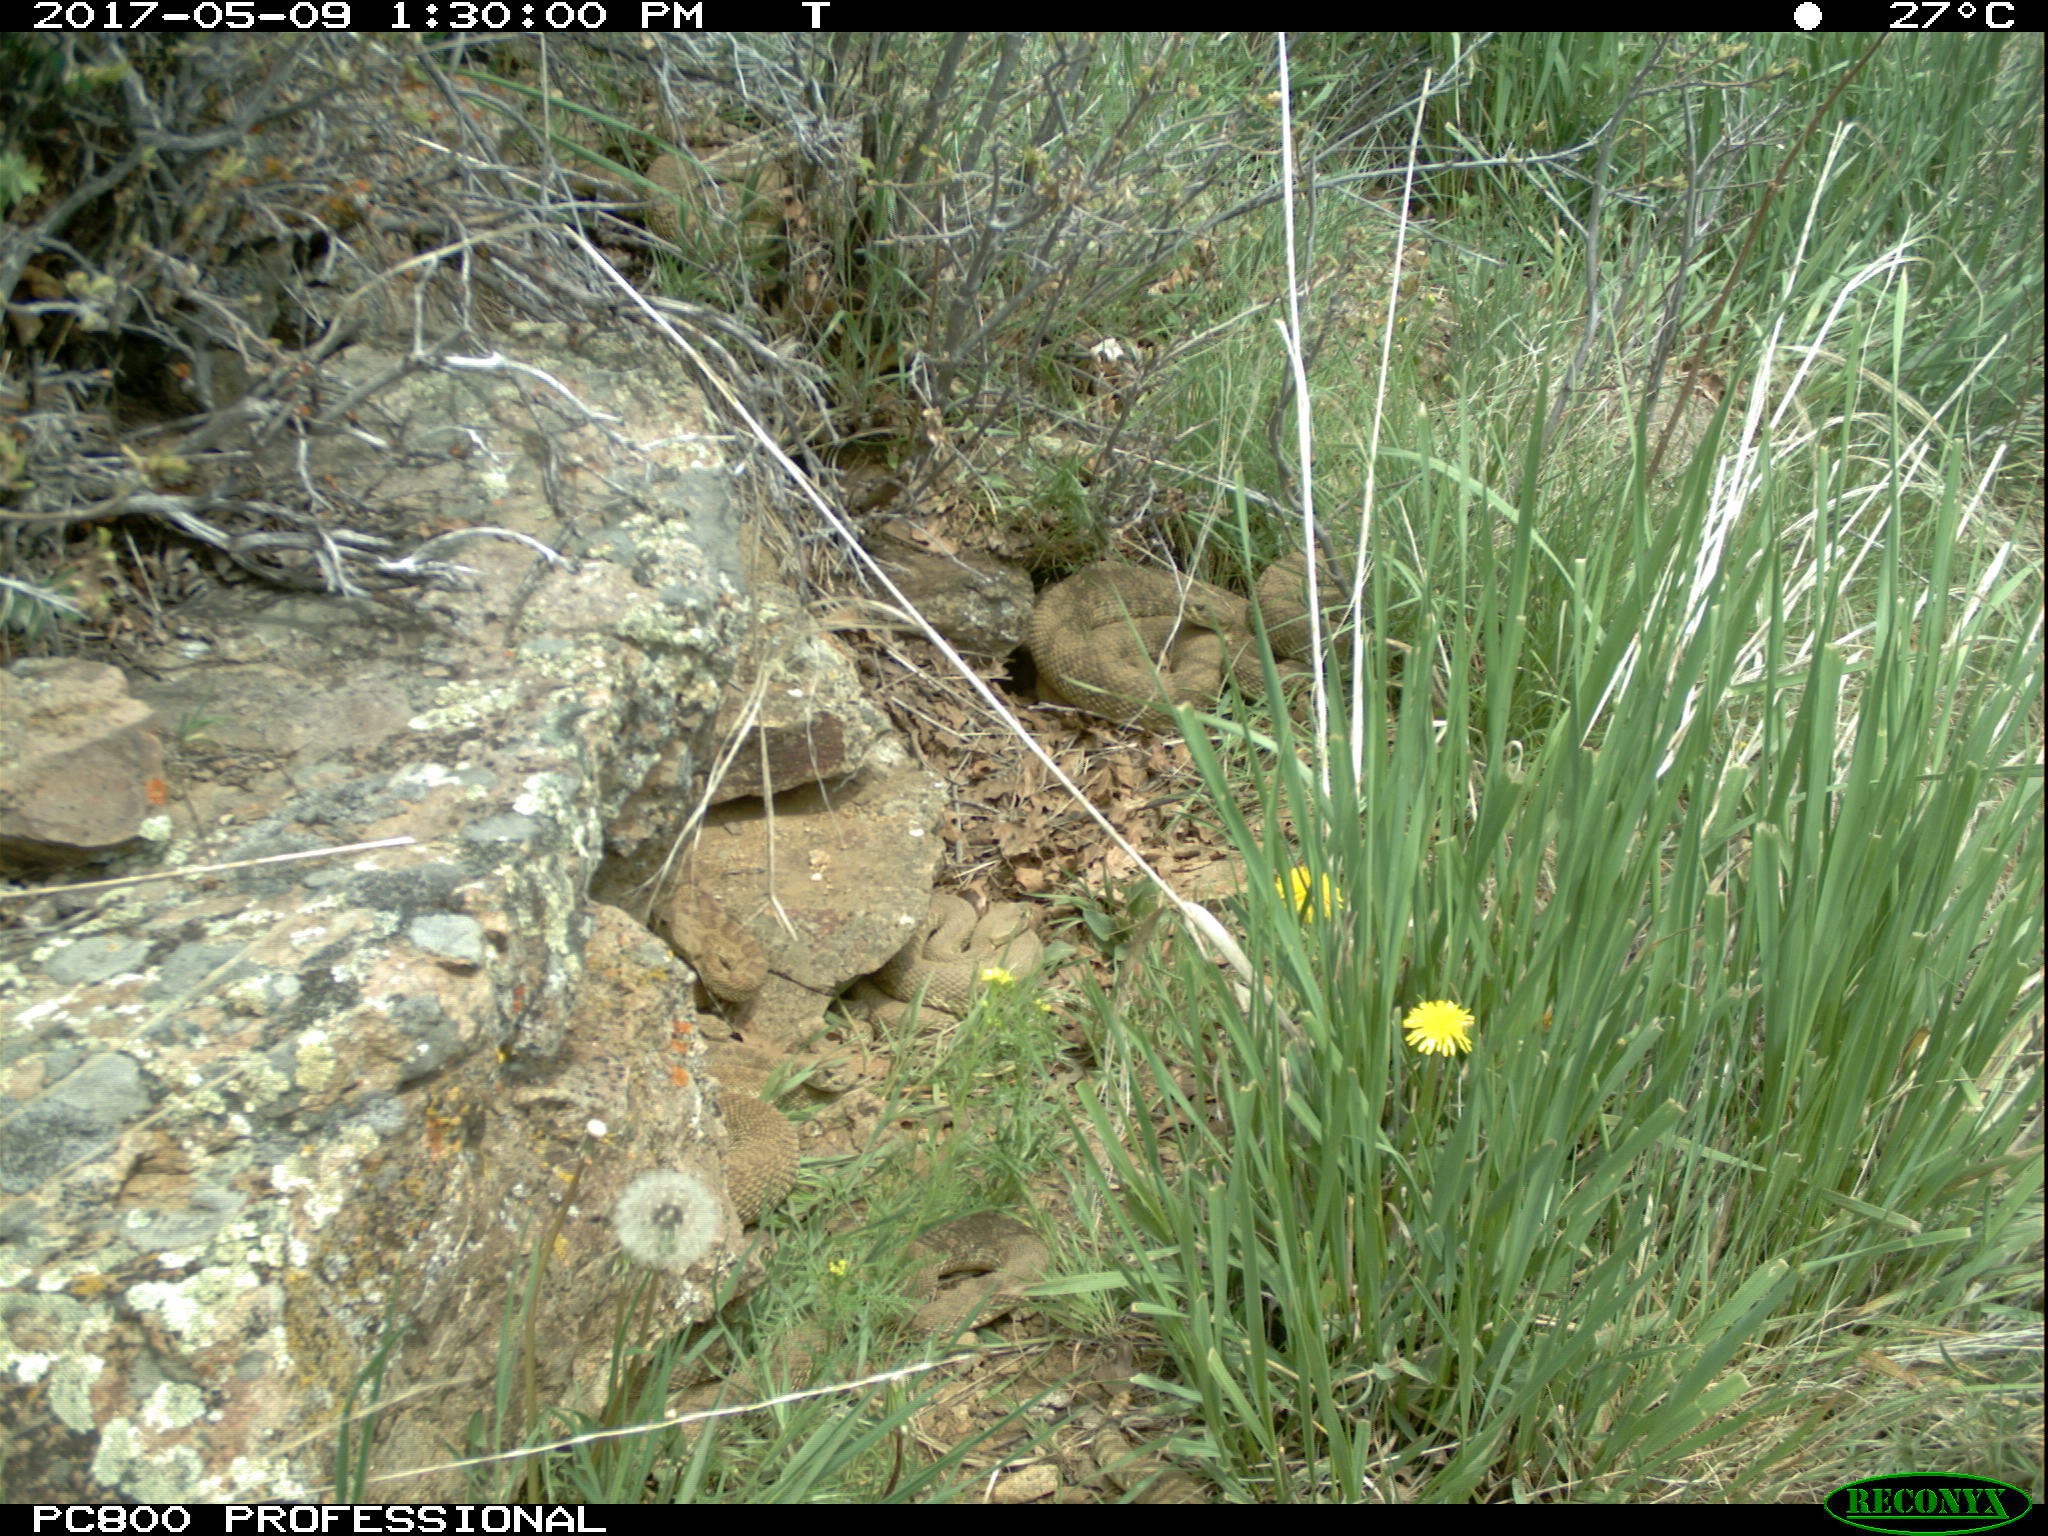snake: (1026, 544, 1335, 723), (672, 1304, 897, 1499), (1022, 1384, 1206, 1504), (863, 894, 1050, 1008), (903, 1210, 1059, 1333), (648, 887, 779, 1000), (706, 1076, 797, 1225)
